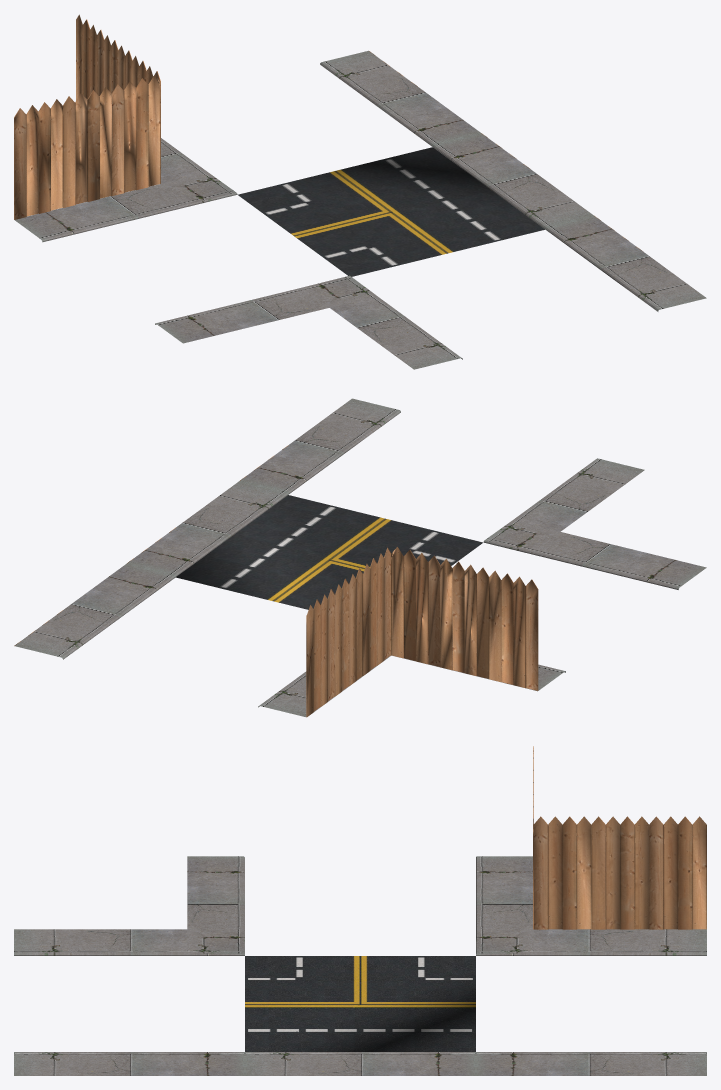
The model's file is road_intersection_fence_1_0_0.obj.
The picture shows the model from 3 angles, top to bottom: view 1: azimuth 30°, elevation 25°; view 2: azimuth 150°, elevation 25°; view 3: azimuth 270°, elevation 25°; orthographic projection. The views are drawn at different scales.
Visible parts, largest first — view 1: ROAD_TILE_Plane.016; view 2: ROAD_TILE_Plane.016; view 3: ROAD_TILE_Plane.016.
Boxes of the visible parts, x1,y1,x2,y2 form: ROAD_TILE_Plane.016: (14,14,706,369); ROAD_TILE_Plane.016: (14,398,706,717); ROAD_TILE_Plane.016: (14,746,706,1075).
Bounding box in the file's own units: 45 × 11.01 × 60.01.
